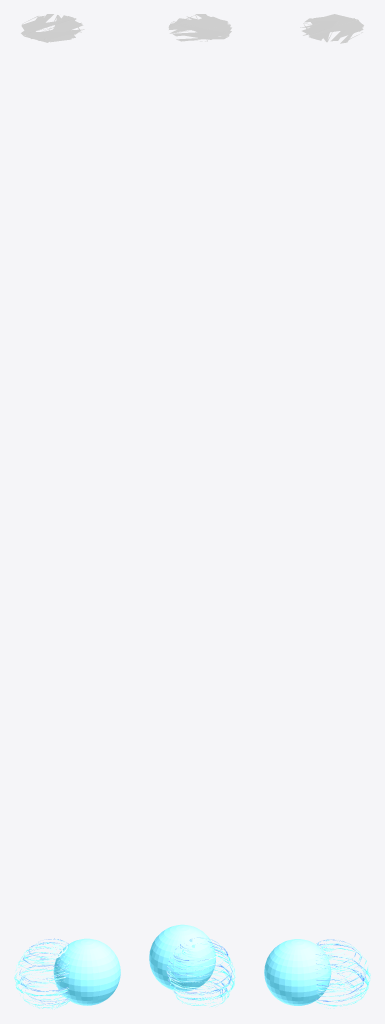
The model's file is orb-ember.glb.
The picture shows the model from 3 angles, left to right: view 1: azimuth 90°, elevation 25°; view 2: azimuth 210°, elevation 25°; view 3: azimuth 270°, elevation 25°; orthographic projection.
Visible parts, largest first — view 1: orb-ember; view 2: orb-ember; view 3: orb-ember.
Boxes of the visible parts, bbox=[...] form: orb-ember: bbox=[14, 14, 120, 1009]; orb-ember: bbox=[149, 14, 235, 1006]; orb-ember: bbox=[264, 14, 370, 1008].
Bounding box in the file's own units: 0.0101 × 0.1631 × 0.0161.
